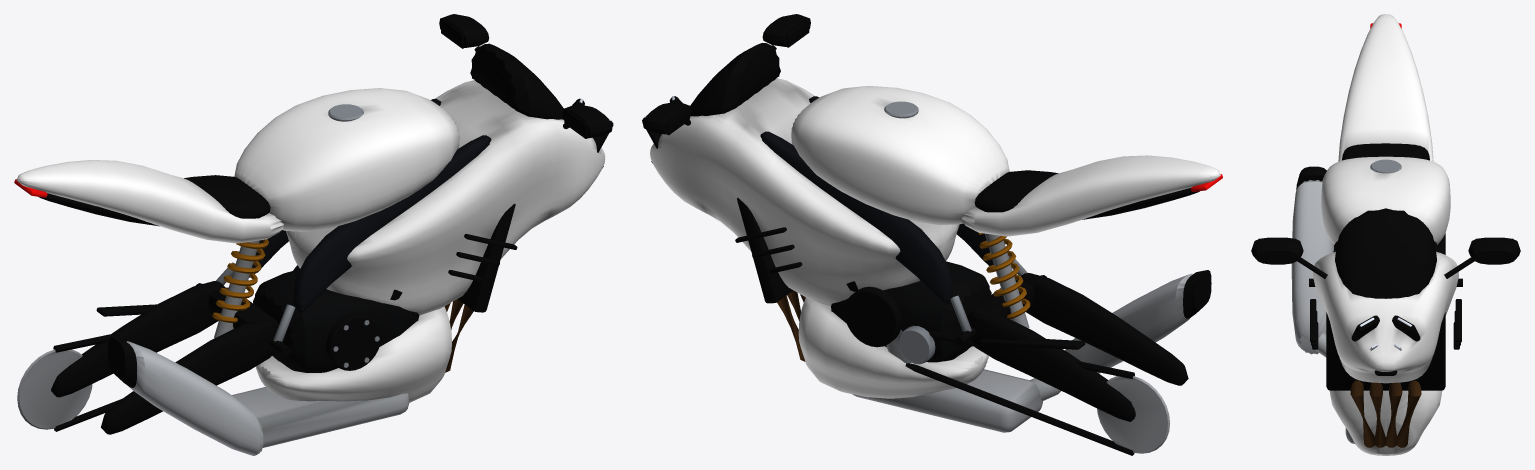
File: bike_super_body.glb
3 views of the same model, side by side, from view 1: azimuth 30°, elevation 25°; view 2: azimuth 150°, elevation 25°; view 3: azimuth 270°, elevation 25° (orthographic). The views are drawn at different scales.
Visible parts, largest first — view 1: bk_fairing, bk_tank, bk_tail, bk_belly, bk_can, bk_crank, bk_swing-1, bk_spar1, bk_collector, bk_swing1, bk_screen, bk_sprocketR (+10 smaller); view 2: bk_fairing, bk_tank, bk_tail, bk_belly, bk_swing1, bk_swing-1, bk_collector, bk_spar-1, bk_crank, bk_screen, bk_sprocketR, bk_can (+15 smaller); view 3: bk_fairing, bk_tail, bk_tank, bk_screen, bk_can, bk_belly, bk_radiator, bk_mirror1, bk_mirror-1, bk_seat, bk_hdr0, bk_hdr1 (+8 smaller).
Part boxes in pixels (x1,y1,x2,y2): bk_fairing: (286, 80, 605, 315); bk_tank: (234, 88, 459, 231); bk_tail: (16, 160, 283, 243); bk_belly: (256, 306, 451, 402); bk_can: (126, 341, 263, 455); bk_crank: (253, 269, 419, 372); bk_swing-1: (51, 281, 225, 397); bk_spar1: (293, 135, 491, 313); bk_collector: (232, 387, 409, 447); bk_swing1: (101, 318, 277, 434); bk_screen: (470, 43, 563, 119); bk_sprocketR: (17, 349, 92, 429); bk_fairing: (650, 78, 959, 306); bk_tank: (791, 86, 1009, 225); bk_tail: (962, 155, 1220, 236); bk_belly: (798, 297, 988, 398); bk_swing1: (1021, 273, 1188, 385); bk_swing-1: (967, 309, 1135, 421); bk_collector: (852, 369, 1042, 432); bk_spar-1: (760, 131, 952, 304); bk_crank: (831, 261, 991, 362); bk_screen: (690, 43, 780, 116); bk_sprocketR: (1097, 376, 1169, 453); bk_can: (1065, 273, 1192, 373); bk_fairing: (1313, 251, 1458, 383); bk_tail: (1338, 14, 1433, 161); bk_tank: (1321, 156, 1450, 244); bk_screen: (1335, 208, 1436, 298); bk_can: (1291, 180, 1333, 354); bk_belly: (1329, 390, 1442, 455); bk_radiator: (1326, 312, 1445, 390); bk_mirror1: (1251, 237, 1303, 264); bk_mirror-1: (1468, 237, 1520, 264); bk_seat: (1342, 143, 1429, 160); bk_hdr0: (1396, 380, 1421, 447); bk_hdr1: (1386, 382, 1402, 447).
Size of the model in its own units: 1.7 by 0.8951 by 0.77.
